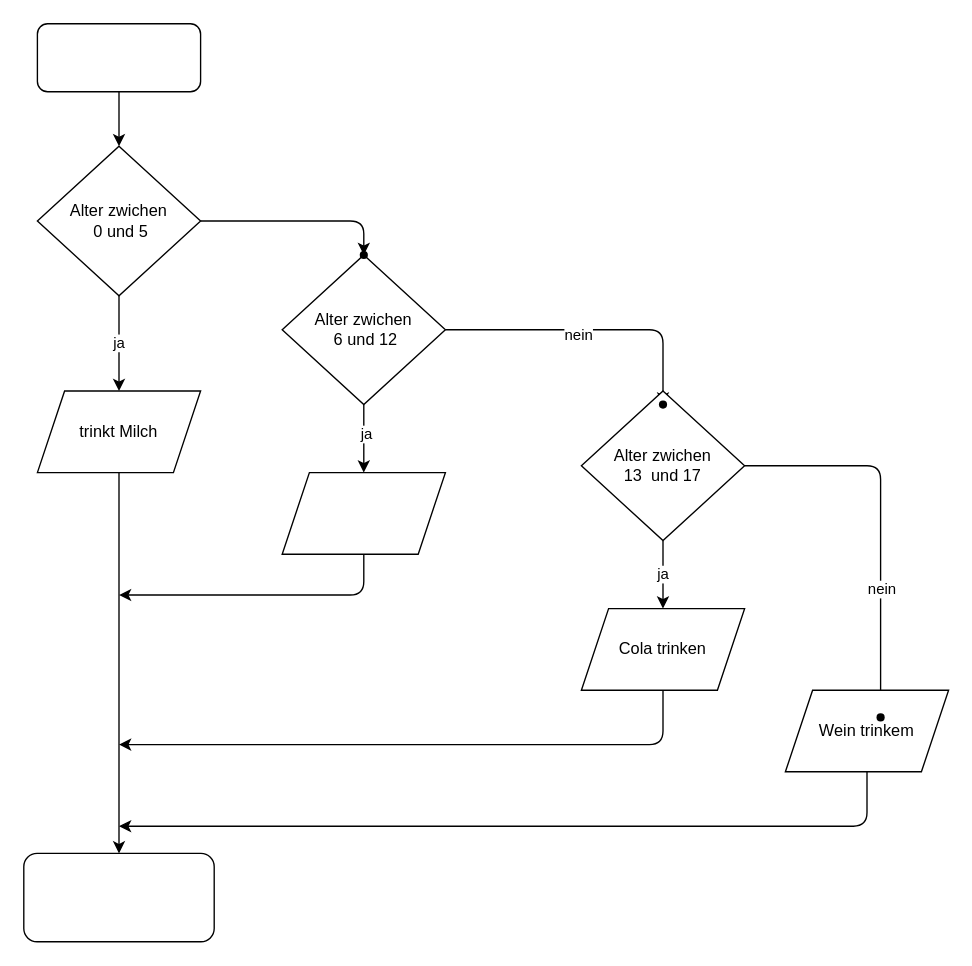
Image size: 972x966. Some labels were removed from this diagram. The centre of each missing label's shape, as x and y in pixels:
"Saft trinken" belongs at (363,512).
"Start" belongs at (118,57).
"Stop" belongs at (118,897).
